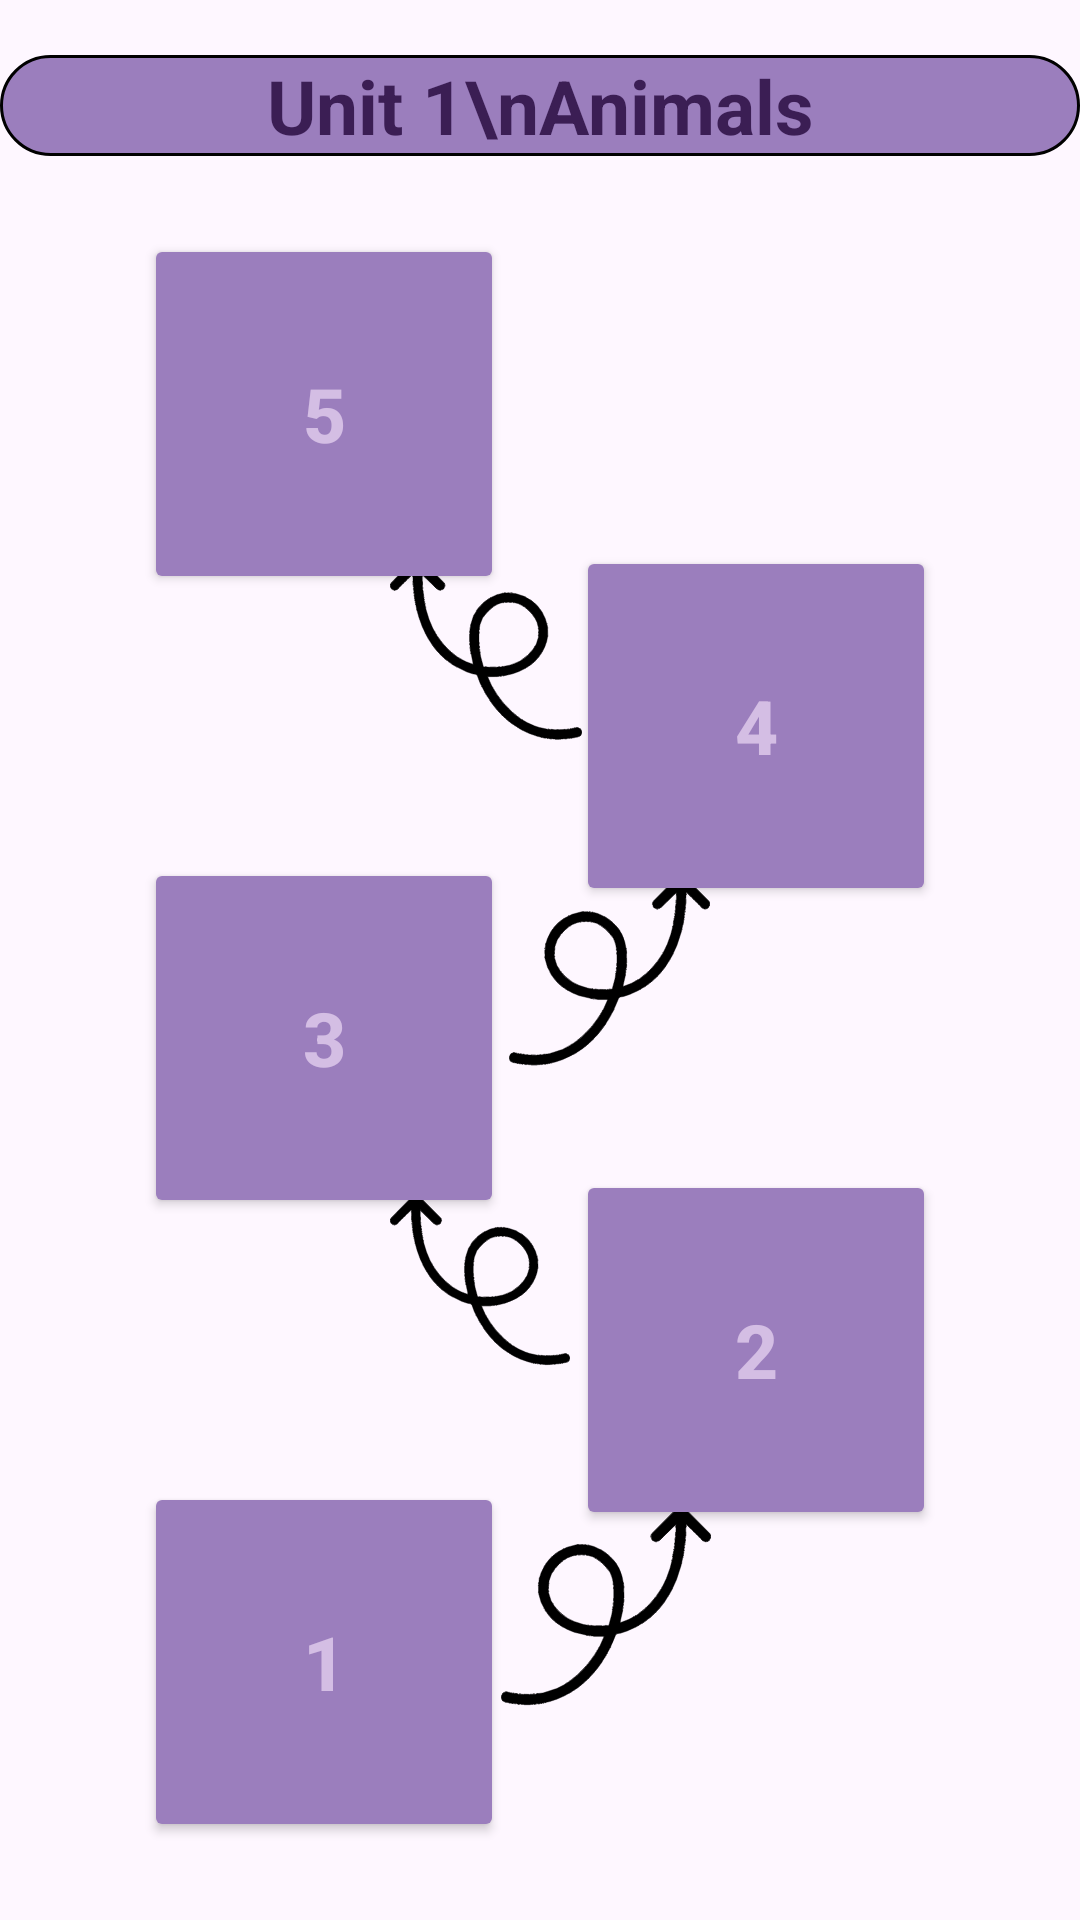

Icon click points for this 1080*1920 phone screenshot, format (x=x, y=y):
arrow: (x=609, y=970), (x=606, y=1606)
arrowreverse: (x=486, y=649), (x=480, y=1280)
